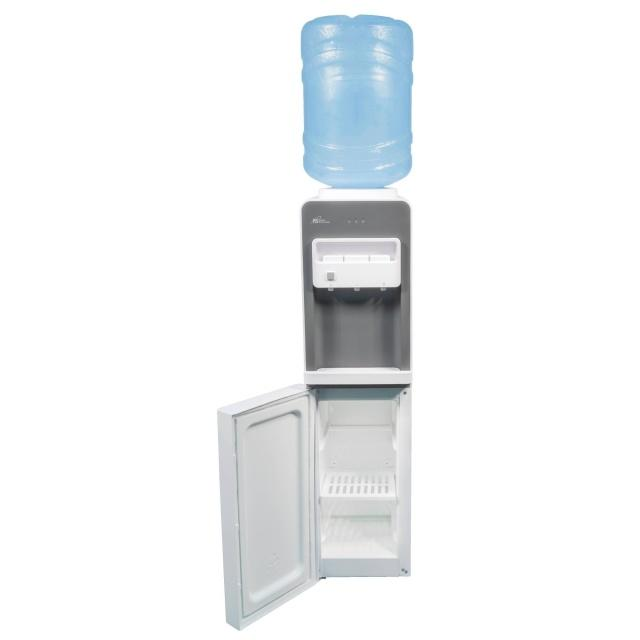Dispenser: (299, 13, 413, 576)
